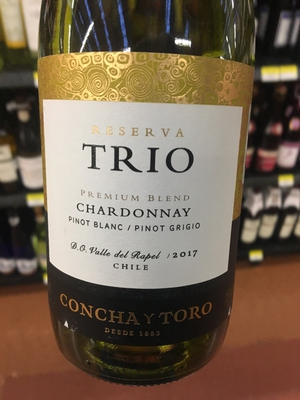trio chardonnay: (37, 7, 264, 376)
